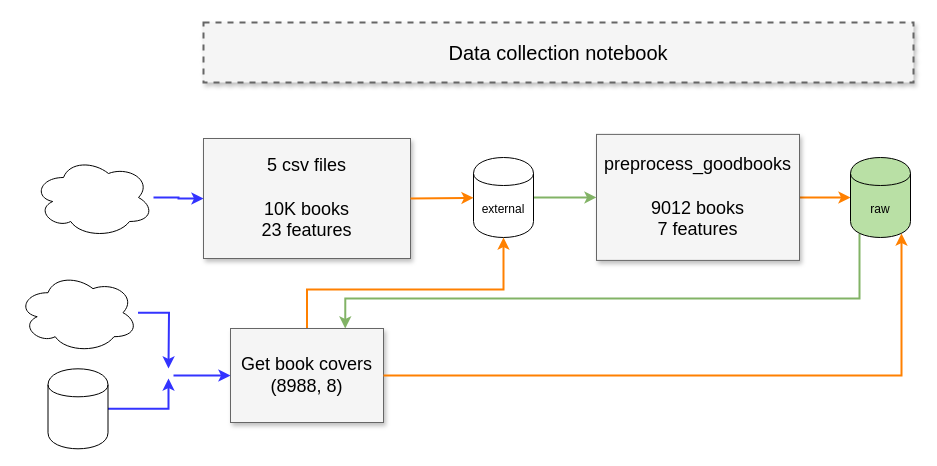
Some shapes in this 937 by 466 pixel diagram are drawn without their labels. Here are the shapes that lost their labels. From the top down, the centre of each, then its label:
(93,197): GitHub
(77,312): WWW
(77,408): Local/External
